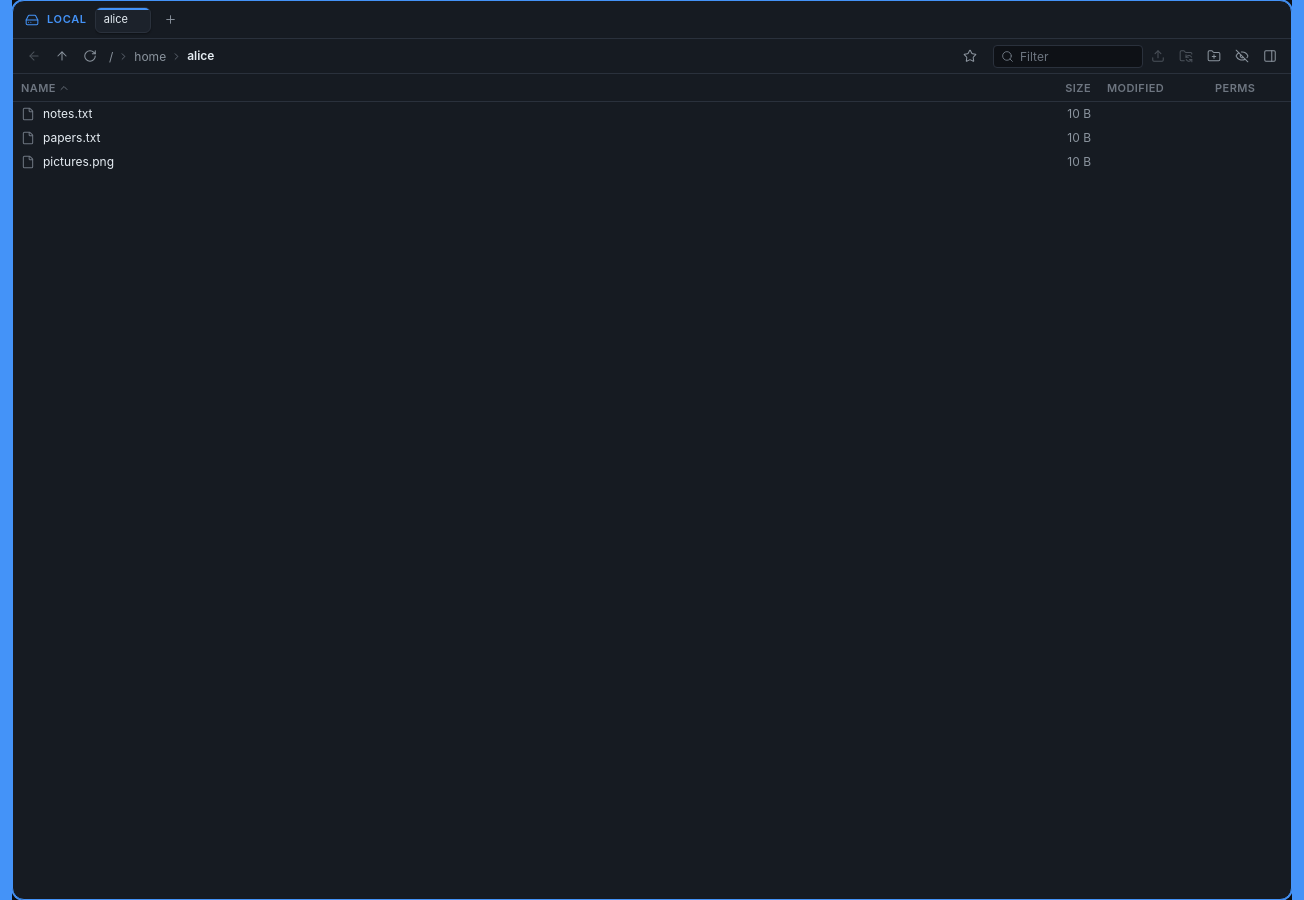
Test: default shortcuts › Escape in the filter clears it and returns the focus to the table
Expected: the text "notes.txt" is shown, [43,105,92,123]
Press f in the table, box [13,74,1291,169]
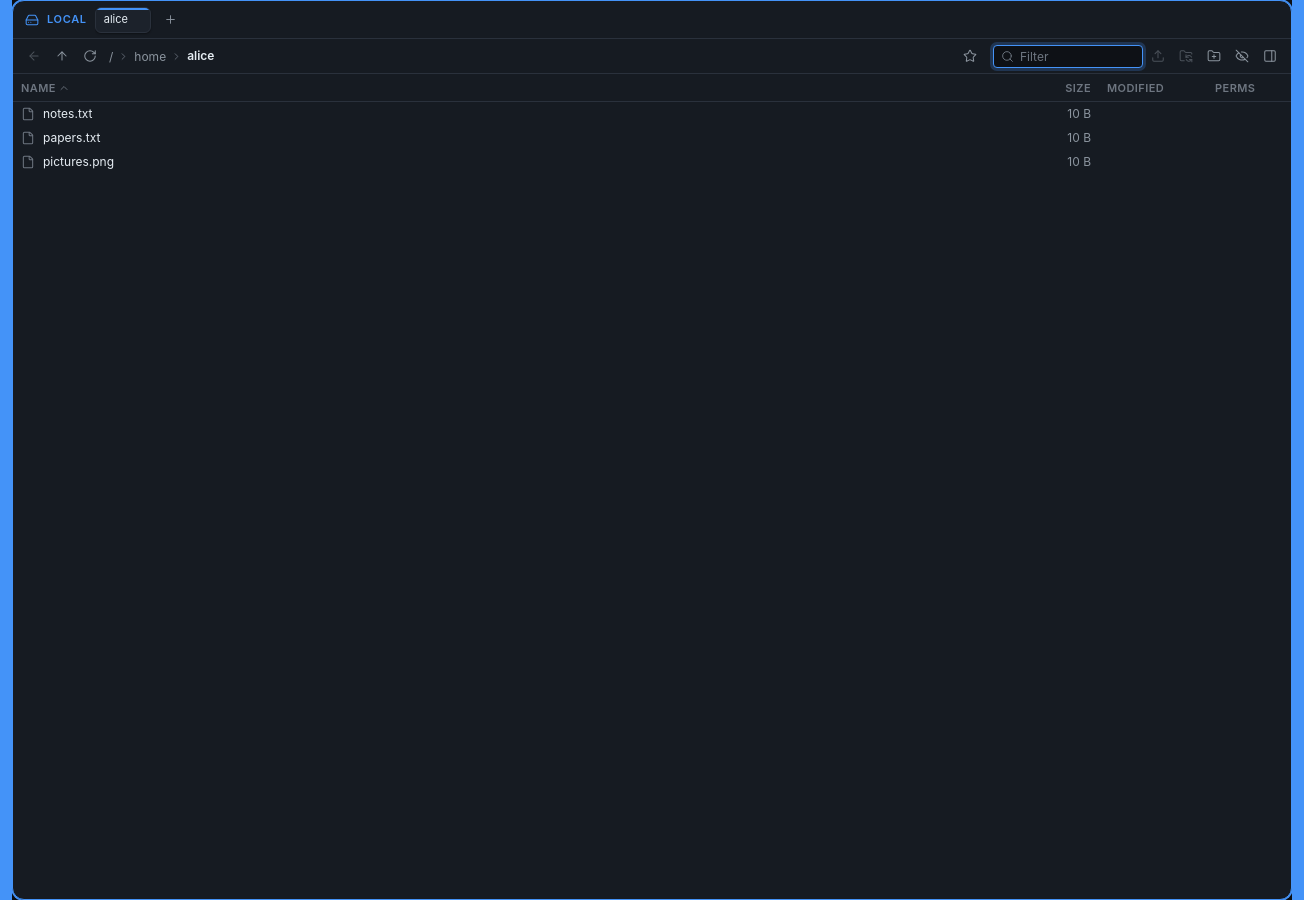
Type "pap" into the search field. click: (1068, 56)
box: [993,44,1143,68]
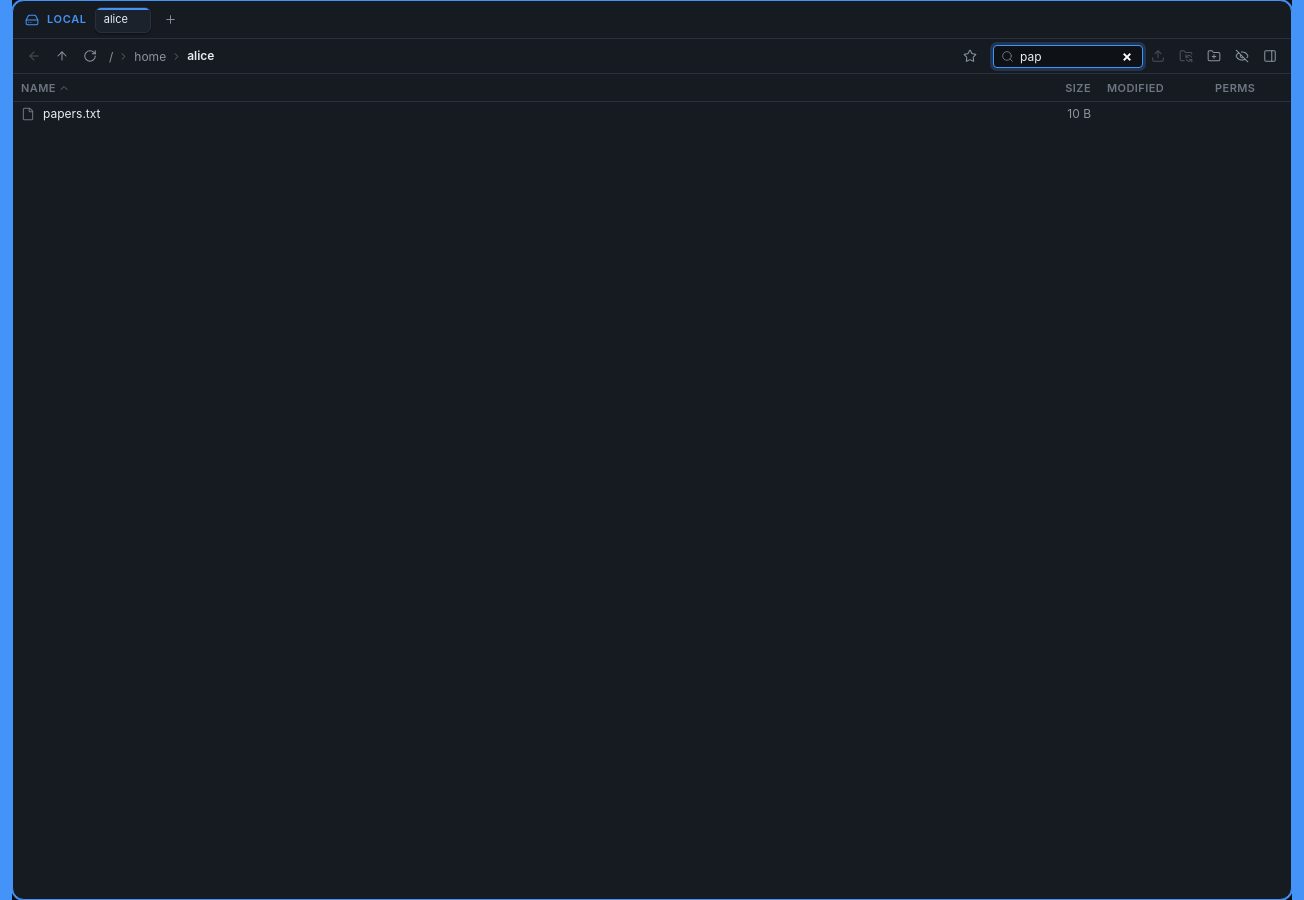
Result: the text "notes.txt" is gone
Press Escape in the search field, box [993,44,1143,68]
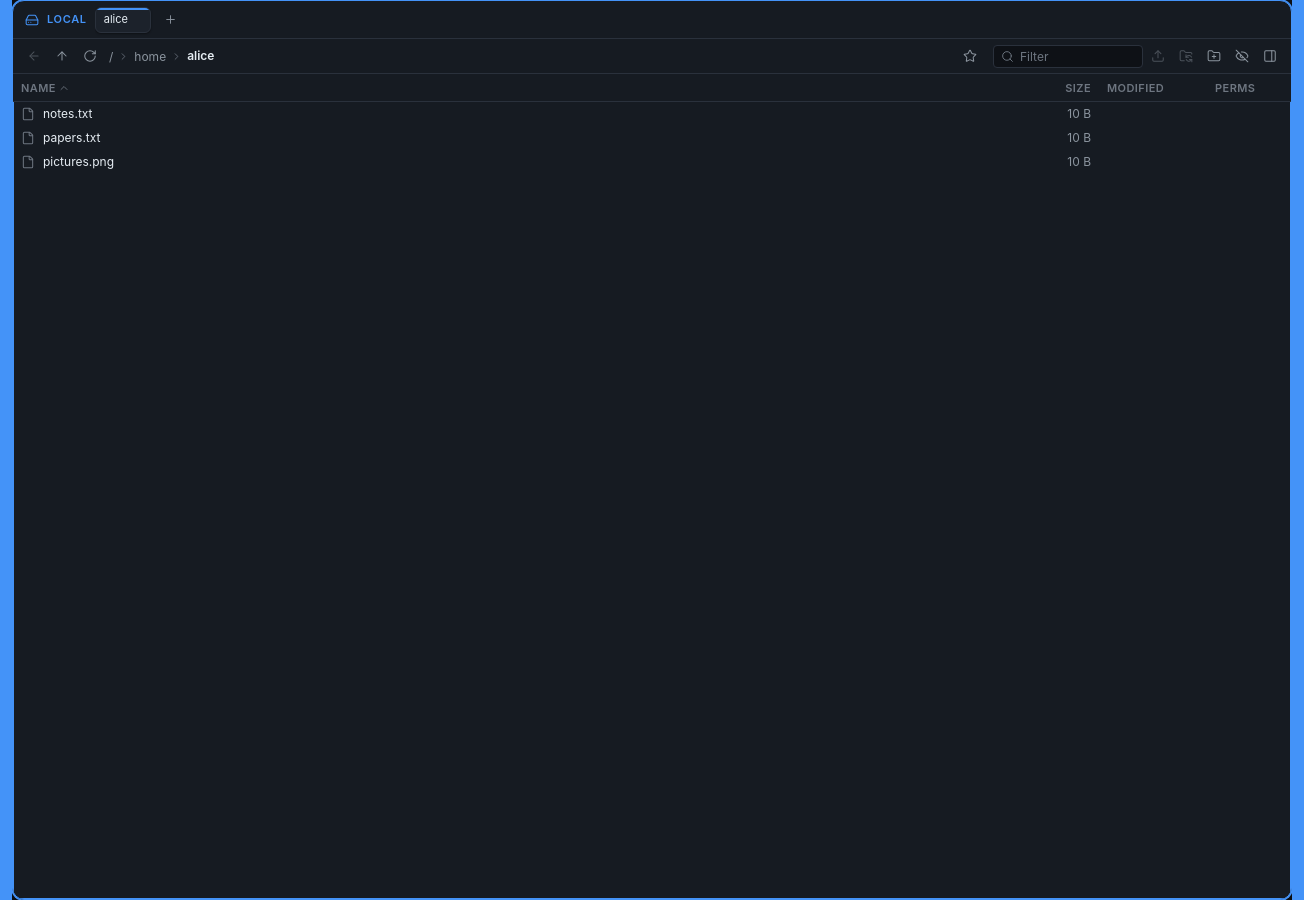
Result: the search field is empty at [993,44,1143,68]
Result: the text "notes.txt" is shown at [43,105,92,123]
